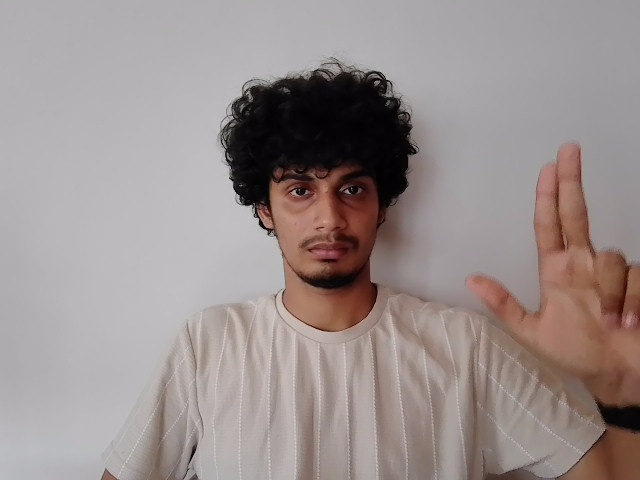no: (464, 138, 640, 371)
